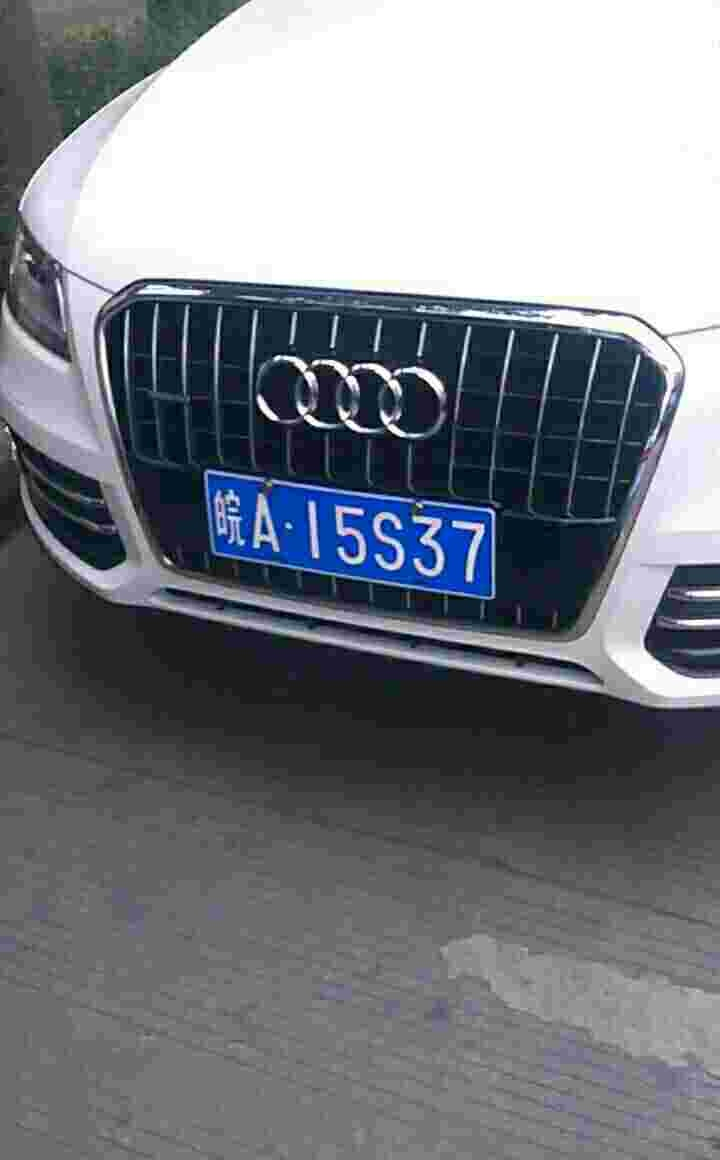license_plate: (197, 467, 503, 603)
